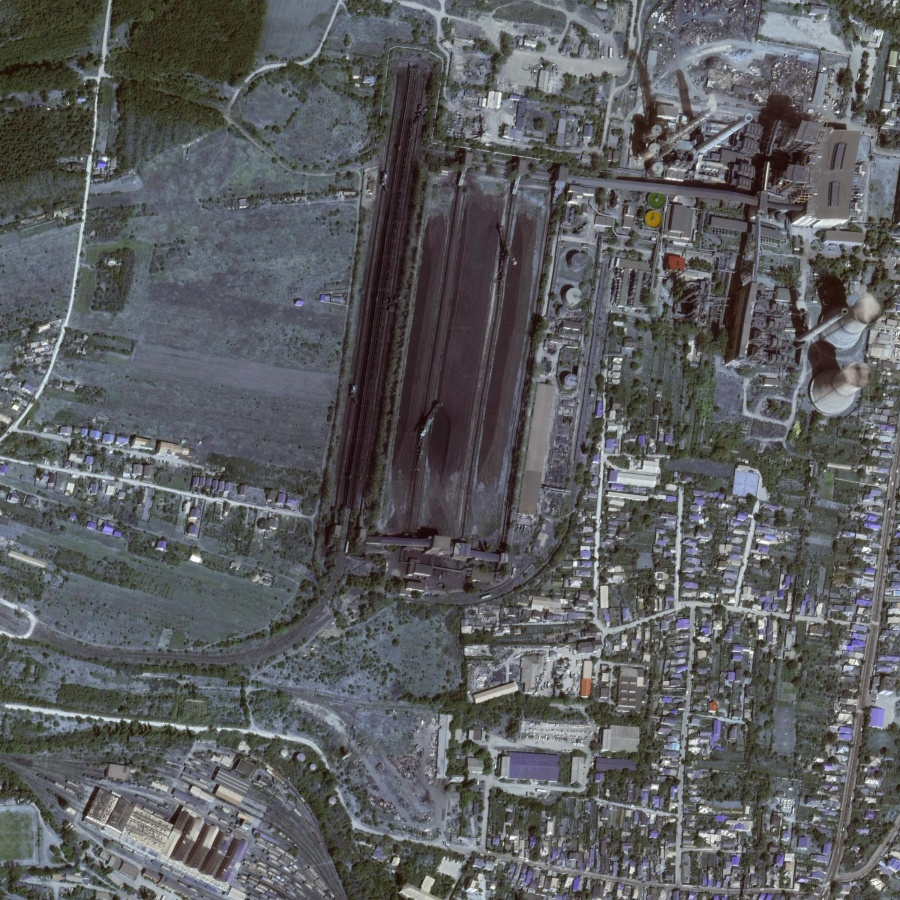PowerPlant: (338, 36, 891, 584)
